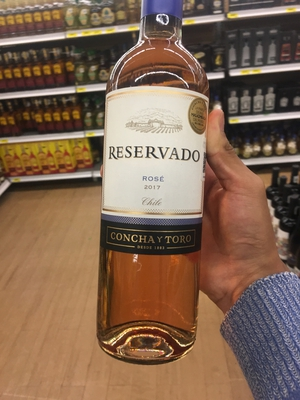reservado rose: (86, 20, 216, 361)
